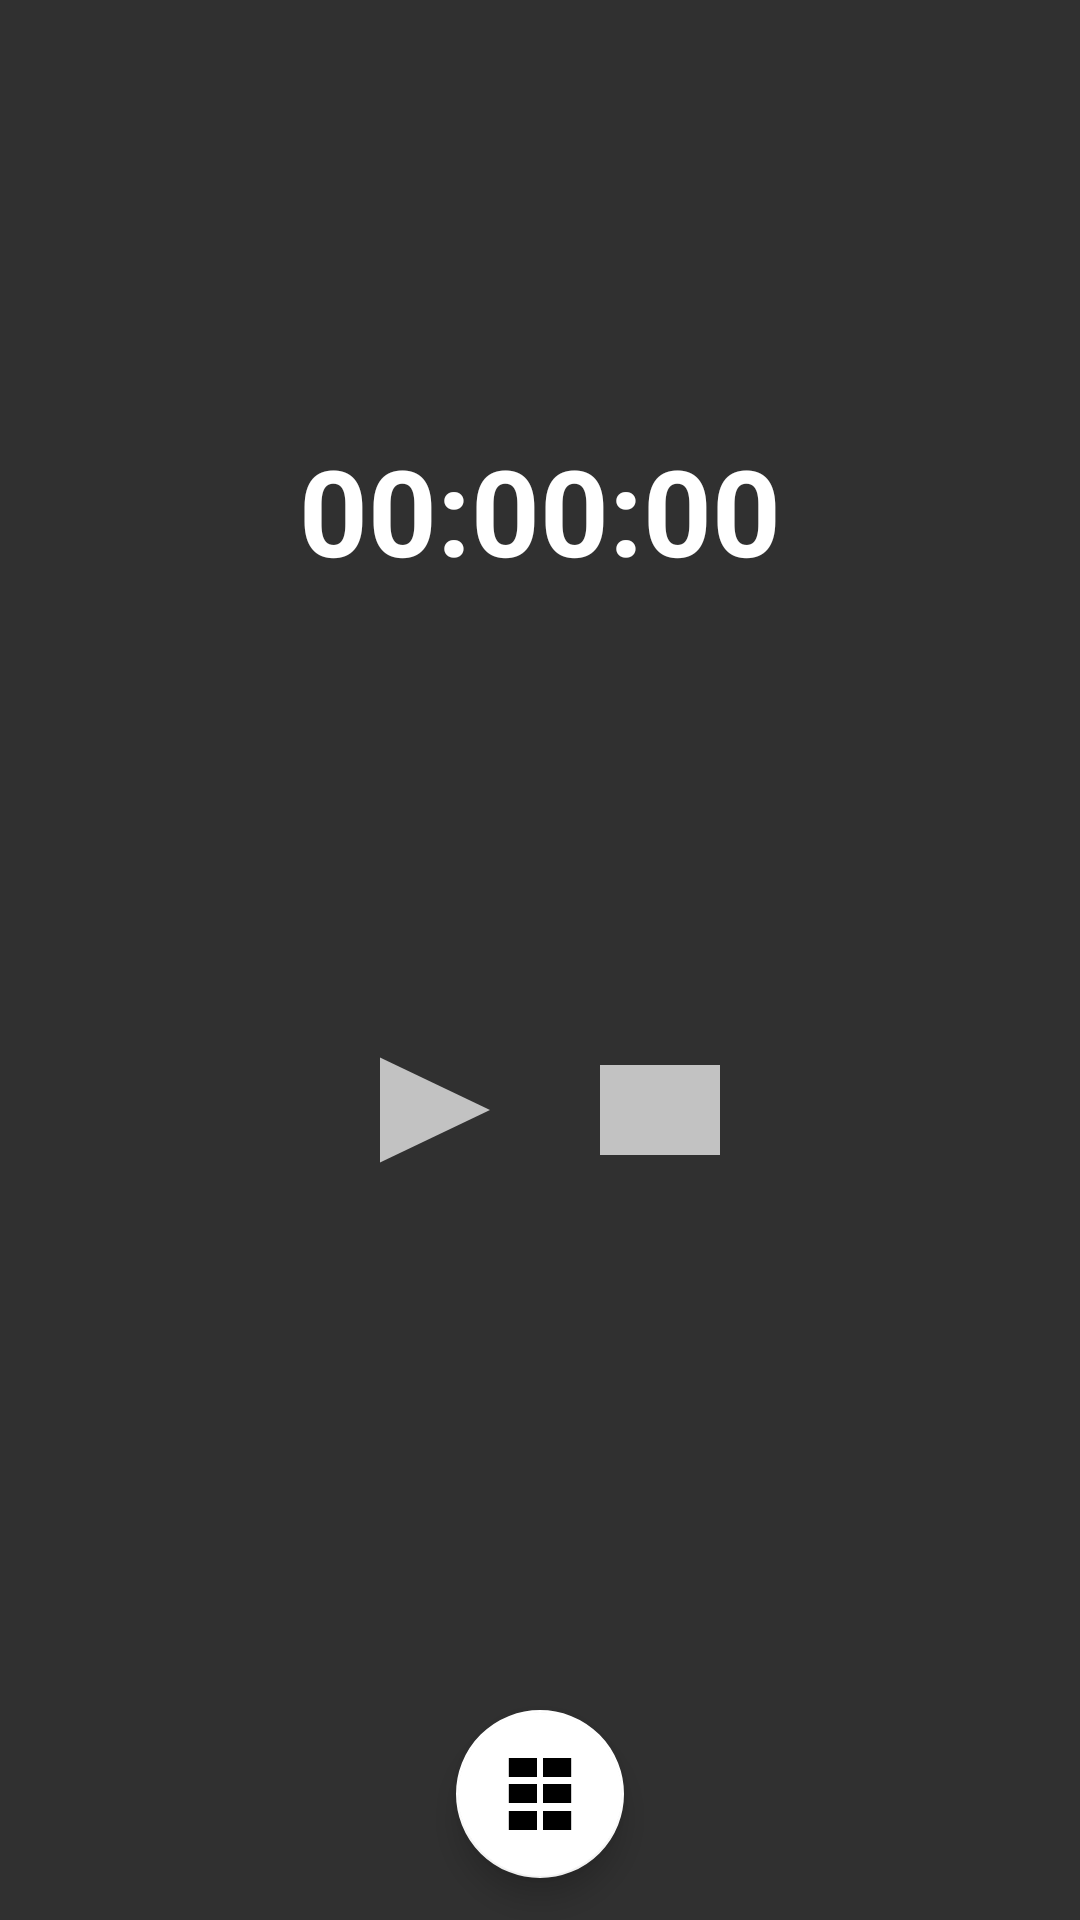

Screen size 1080×1920. Icon name, then its box in pixels as bbox=[x1, y1, x2, y2]:
pattern: bbox=[456, 1710, 624, 1878]
Start: bbox=[380, 1057, 490, 1163]
